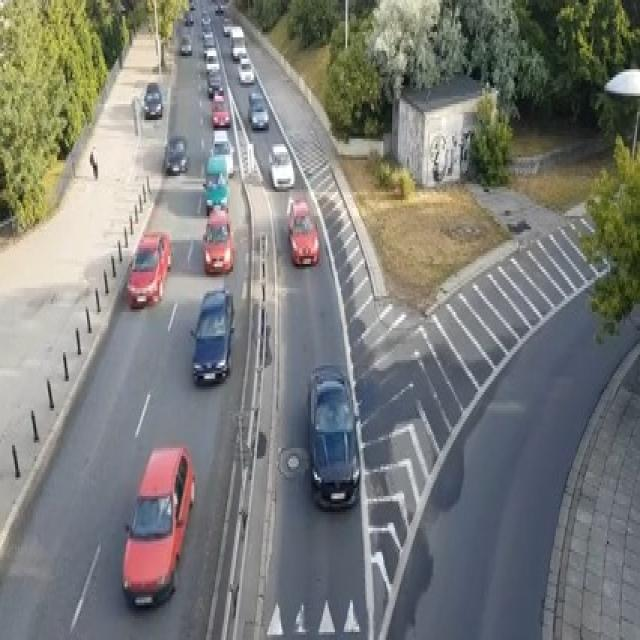car: (122, 445, 195, 608), (307, 363, 359, 509), (190, 288, 234, 384), (126, 229, 171, 307), (286, 194, 318, 266), (202, 208, 234, 272), (268, 142, 294, 190), (203, 173, 228, 216), (209, 133, 234, 176), (164, 134, 188, 174), (203, 154, 228, 187), (248, 91, 269, 128), (141, 80, 162, 117), (210, 91, 230, 128), (230, 24, 245, 59), (238, 56, 255, 83), (206, 69, 222, 96), (204, 45, 220, 72), (179, 35, 191, 53), (222, 16, 233, 35), (200, 10, 210, 27), (203, 30, 213, 46), (184, 11, 192, 24), (215, 3, 222, 13), (190, 0, 196, 8)
